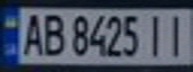2: (103, 11, 124, 58)
4: (87, 11, 109, 57)
5: (121, 11, 145, 58)
8: (66, 11, 90, 56)
A: (18, 10, 45, 56)
B: (39, 10, 69, 57)
I: (142, 11, 169, 58), (163, 11, 190, 58)
